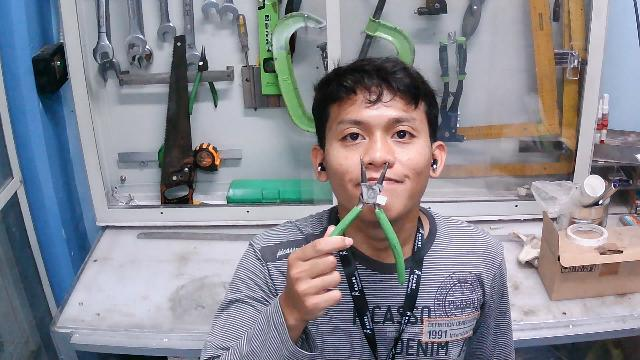tang_cucut_lancip_1: (315, 151, 421, 293)
